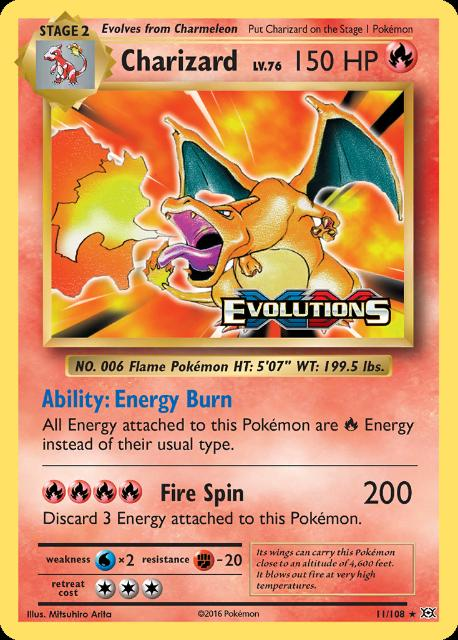Card: (0, 0, 458, 640)
Name: (115, 40, 245, 74)
